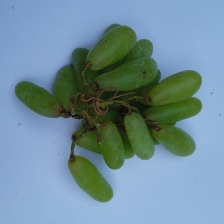grapes: (6, 34, 203, 194)
